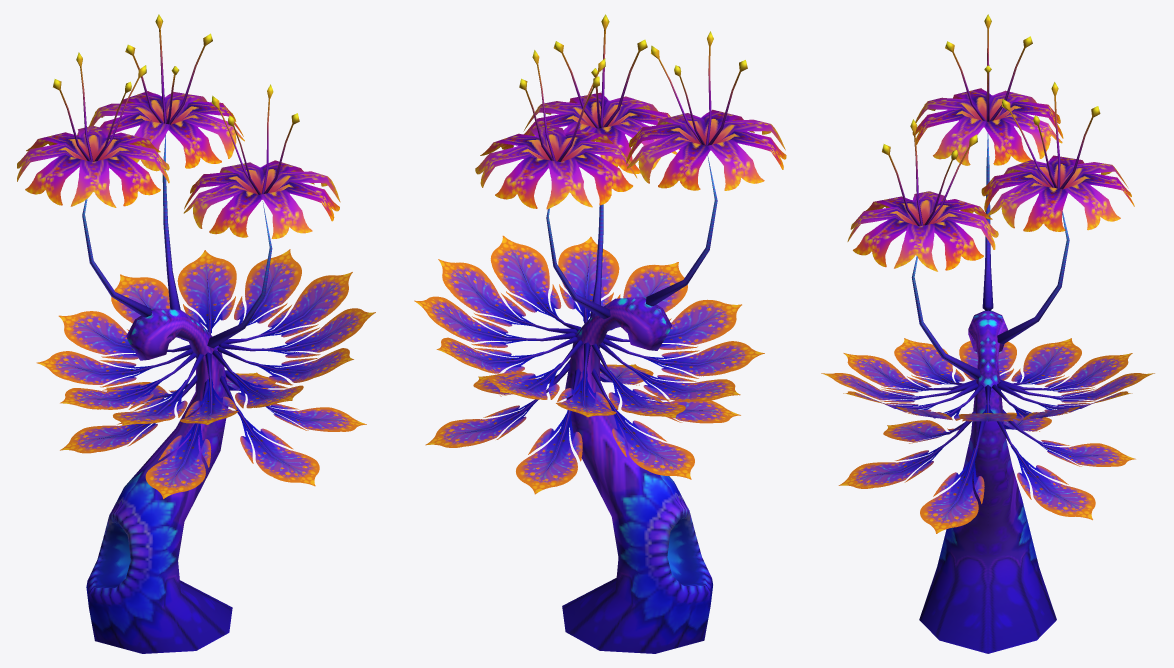
The model's file is Blue_Tree_06a.FBX.
3 views of the same model, side by side, from view 1: azimuth 30°, elevation 25°; view 2: azimuth 150°, elevation 25°; view 3: azimuth 270°, elevation 25° (orthographic). The views are drawn at different scales.
Visible parts, largest first — view 1: Blue_Tree_06a; view 2: Blue_Tree_06a; view 3: Blue_Tree_06a.
Boxes of the visible parts, x1,y1,x2,y2 form: Blue_Tree_06a: [17, 14, 375, 653]; Blue_Tree_06a: [414, 14, 786, 653]; Blue_Tree_06a: [821, 14, 1154, 653].
Size of the model in its own units: 316 by 506 by 283.
